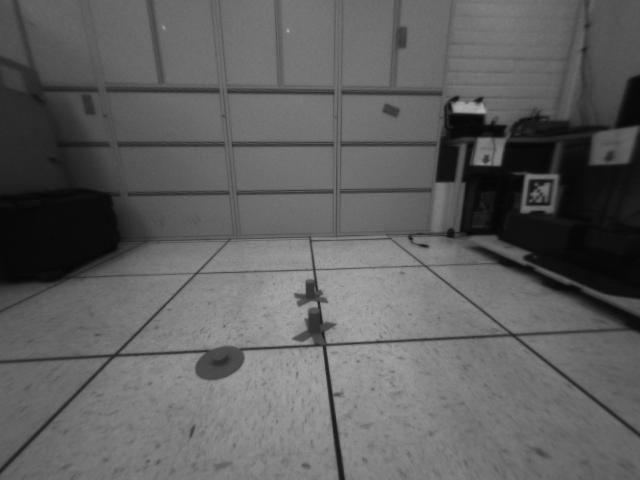X: (291, 306, 336, 345), (291, 277, 328, 306)
